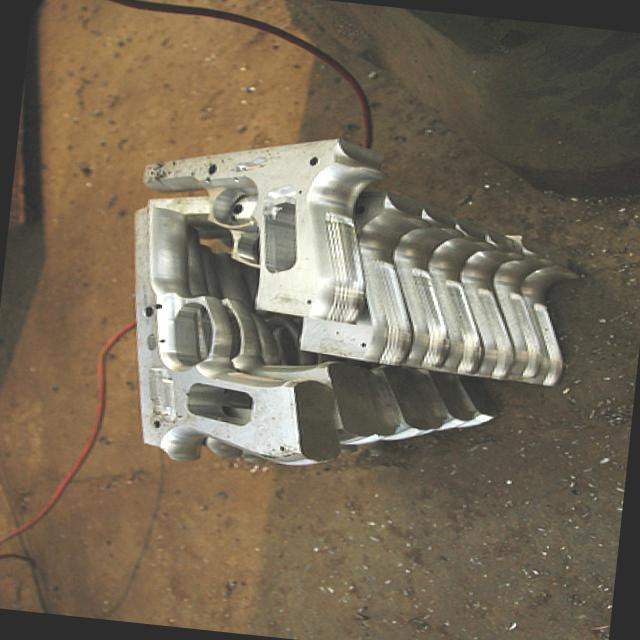handgun: (101, 204, 362, 478), (124, 118, 386, 325)
